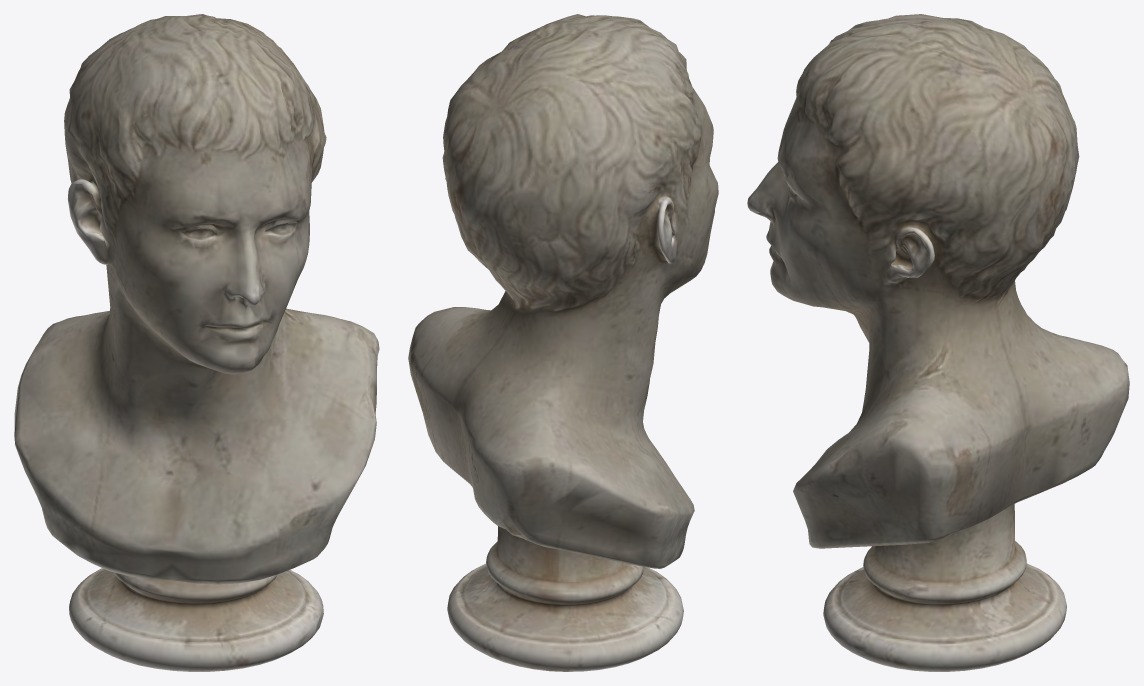
The model's file is marble_bust_01.glb.
3 views of the same model, side by side, from view 1: azimuth 30°, elevation 25°; view 2: azimuth 150°, elevation 25°; view 3: azimuth 270°, elevation 25° (orthographic). The views are drawn at different scales.
Parts seen in each view (by area): view 1: marble_bust_01; view 2: marble_bust_01; view 3: marble_bust_01.
Boxes of the visible parts, left/top/right/bottom form: marble_bust_01: left=14, top=14, right=379, bottom=671; marble_bust_01: left=408, top=14, right=718, bottom=671; marble_bust_01: left=747, top=14, right=1129, bottom=671.
Size of the model in its own units: 0.2717 by 0.5149 by 0.2997.
1 material, 1 textured.
